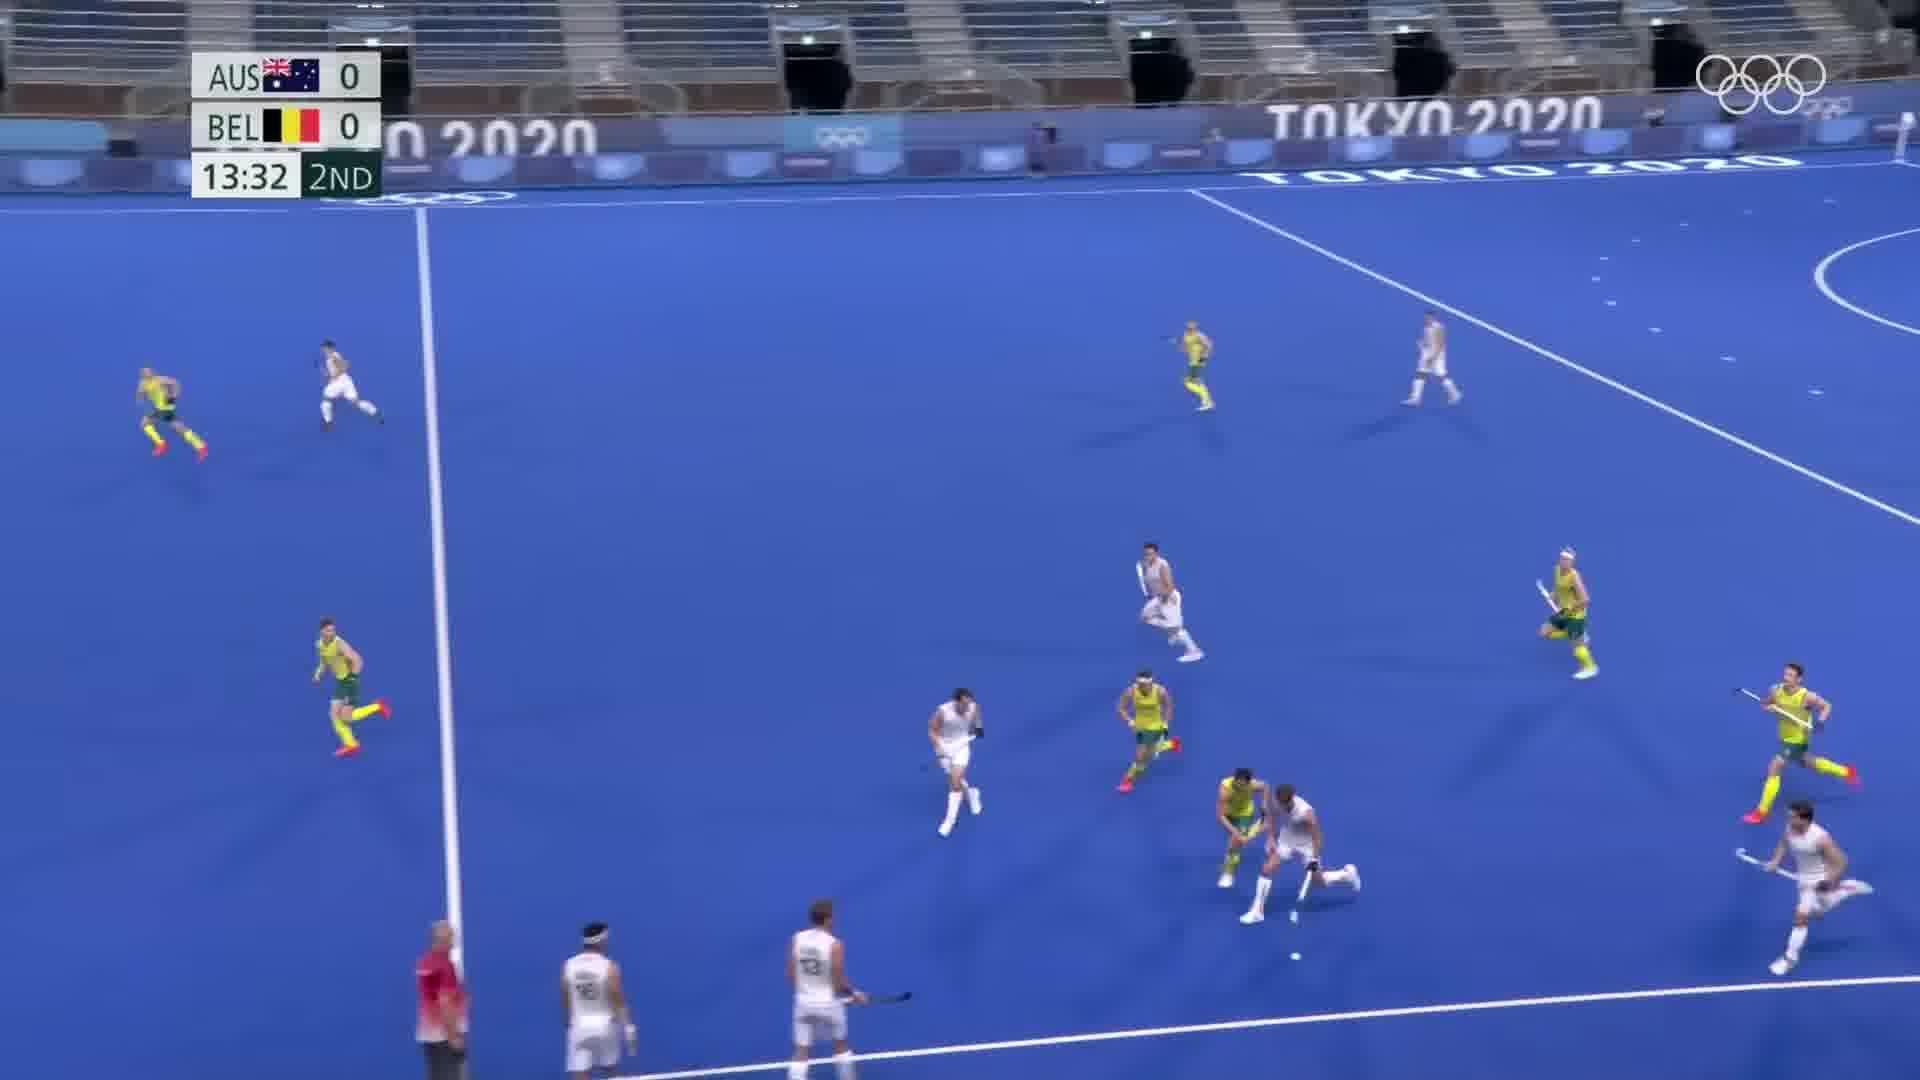ball: (1284, 944, 1308, 973)
